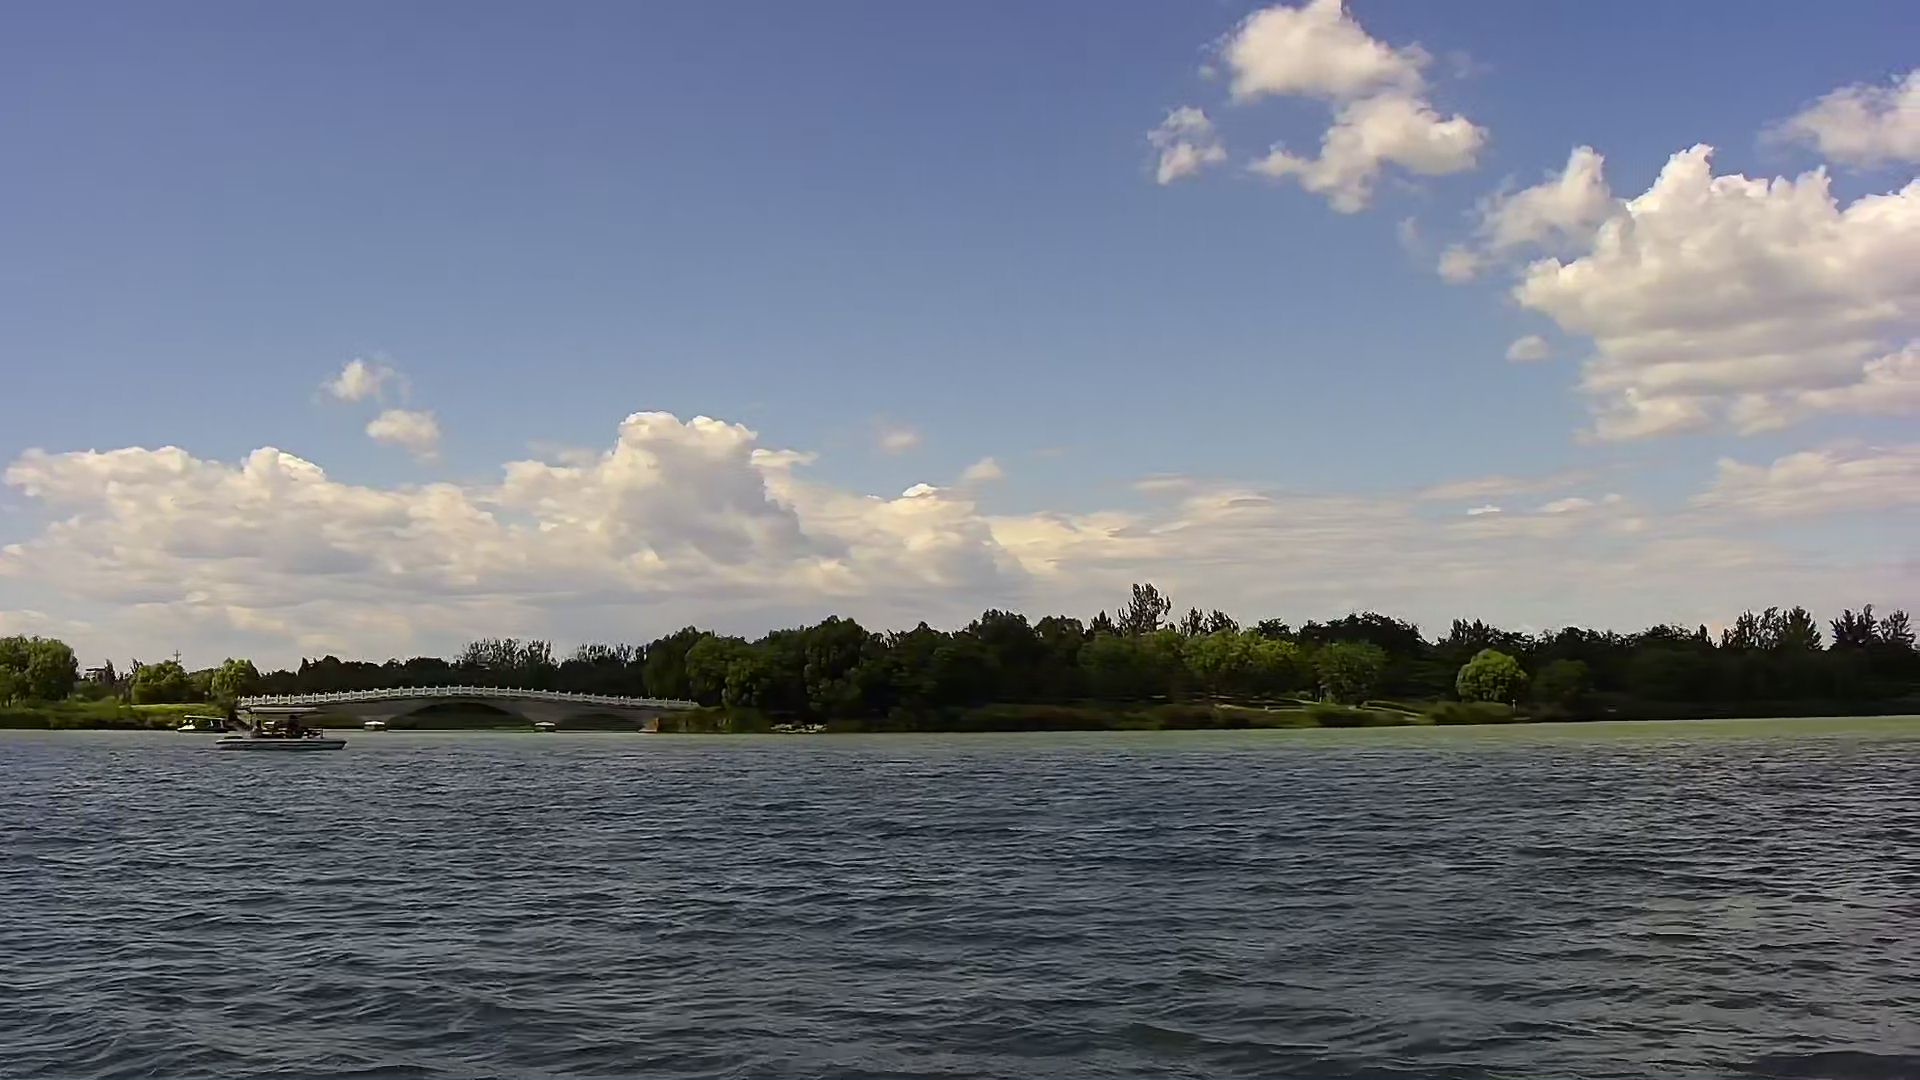boat: (223, 705, 345, 752)
bridge: (276, 684, 709, 731)
